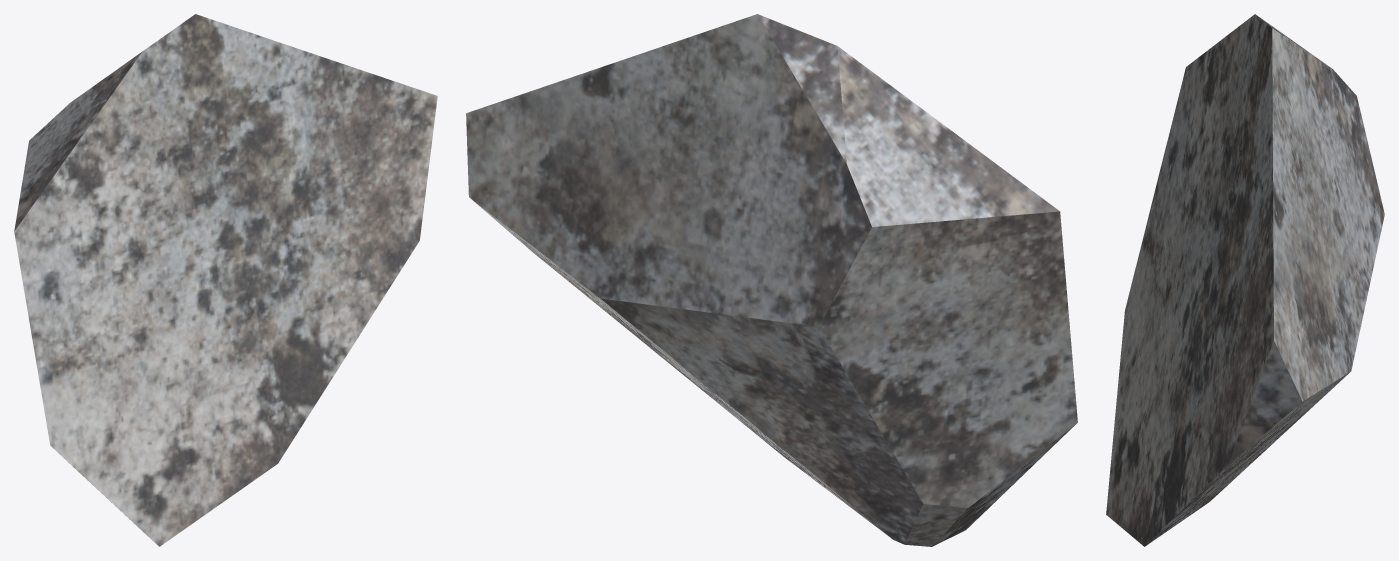
Rendered from Asteroid_Large_001_02_012_03_024.fbx.
3 views of the same model, side by side, from view 1: azimuth 30°, elevation 25°; view 2: azimuth 150°, elevation 25°; view 3: azimuth 270°, elevation 25° (orthographic). The views are drawn at different scales.
Parts seen in each view (by area): view 1: Asteroid_Large_001_02_012_03_024; view 2: Asteroid_Large_001_02_012_03_024; view 3: Asteroid_Large_001_02_012_03_024.
Part boxes in pixels (<box>): Asteroid_Large_001_02_012_03_024: <box>14,14,437,546</box>; Asteroid_Large_001_02_012_03_024: <box>466,14,1077,546</box>; Asteroid_Large_001_02_012_03_024: <box>1106,14,1384,546</box>.
Bounding box in the file's own units: 10.03 × 9.51 × 4.38.
